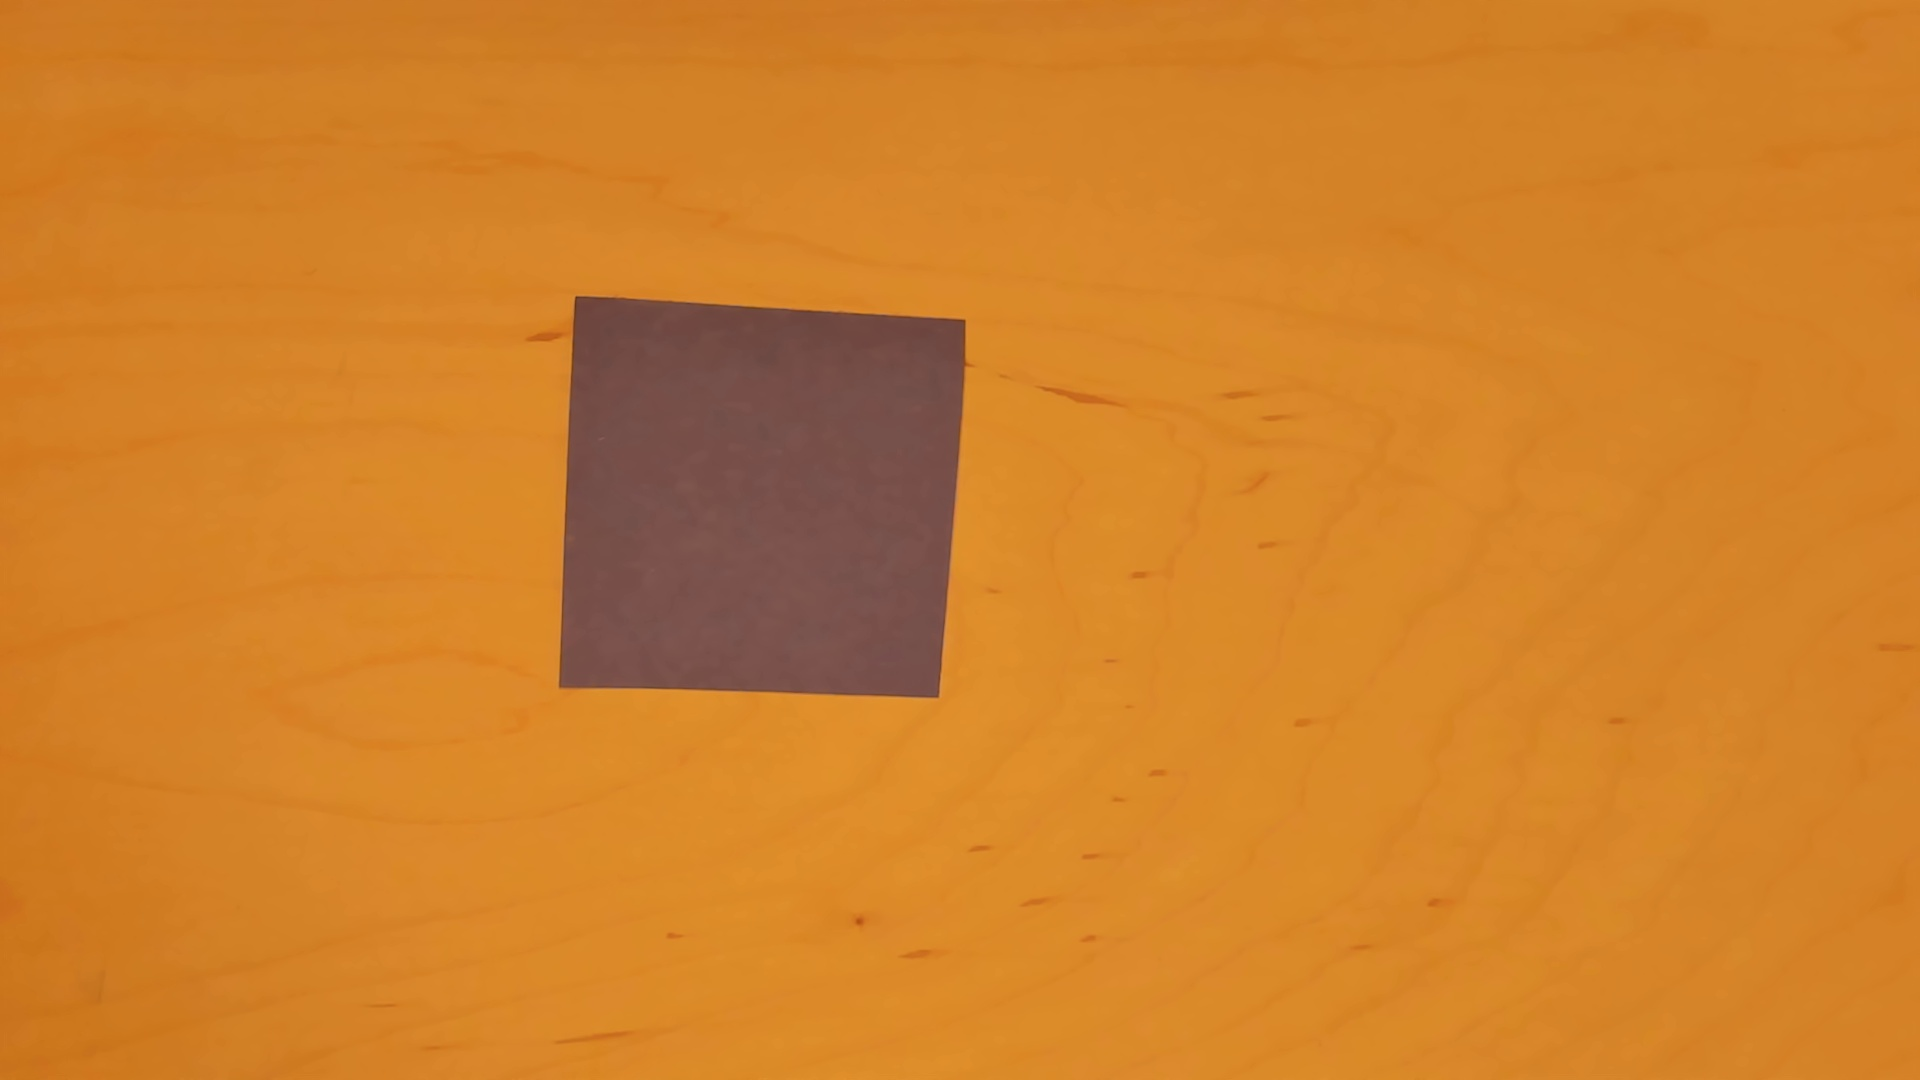BS: (553, 291, 971, 707)
